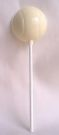tennis ball: (10, 5, 47, 41)
